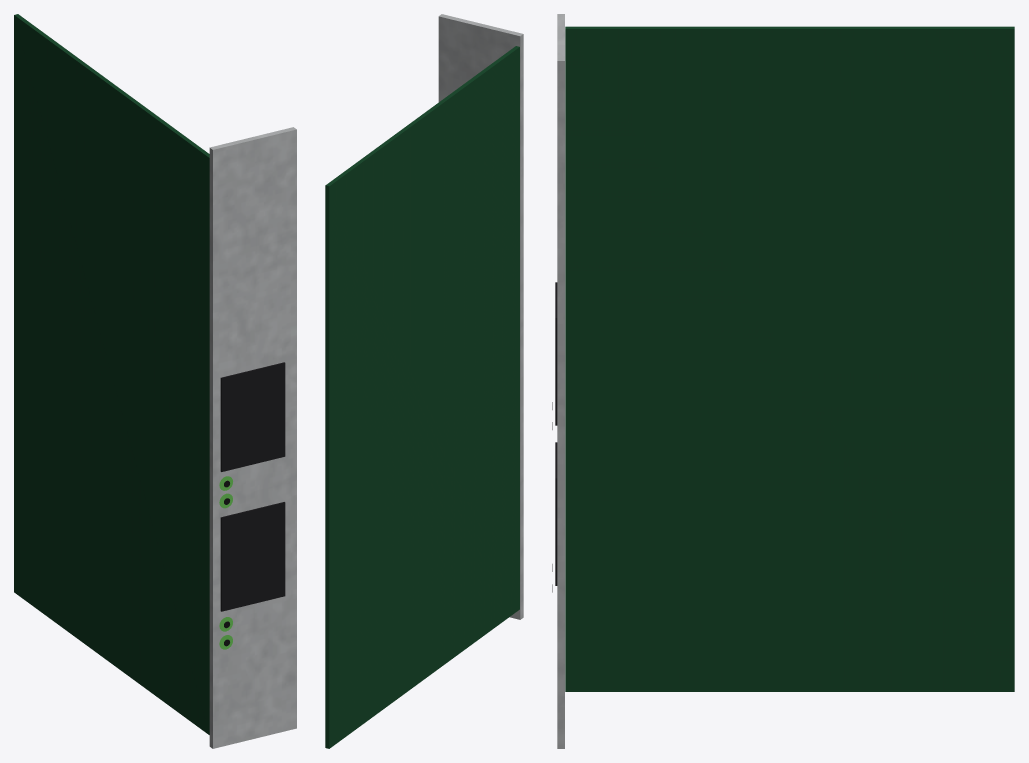
File: X710-DA2-FH.far.glb
3 renders of one model, left to right at view 1: azimuth 30°, elevation 25°; view 2: azimuth 150°, elevation 25°; view 3: azimuth 270°, elevation 25°, orthographic. The views are drawn at different scales.
Visible parts, largest first — view 1: Card_far; view 2: Card_far; view 3: Card_far.
Part boxes in pixels (<box>): Card_far: <box>14,14,296,748</box>; Card_far: <box>325,14,523,748</box>; Card_far: <box>555,14,1014,748</box>.
Bounding box in the file's own units: 0.0146 × 0.0996 × 0.0606.
3 materials, 2 textured.
